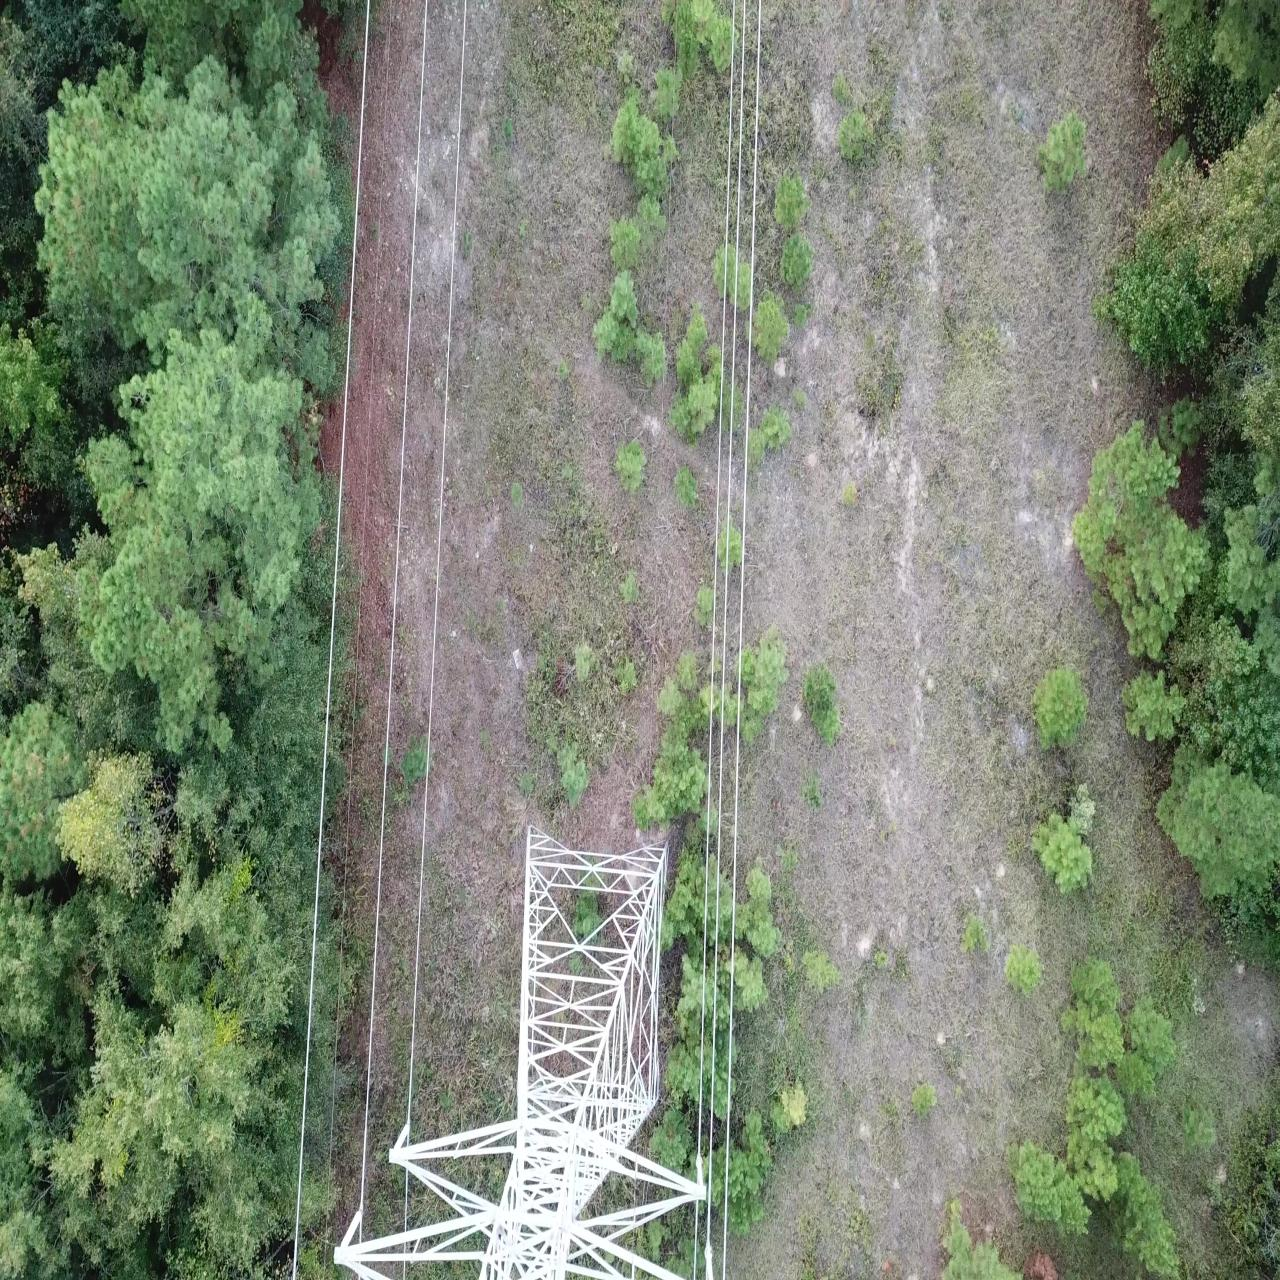cable: (293, 0, 369, 1279), (324, 0, 392, 1279), (361, 1, 428, 1207), (407, 0, 467, 1125), (723, 0, 761, 1279), (708, 0, 745, 1240), (699, 0, 735, 1153), (647, 0, 678, 846), (694, 1200, 699, 1279), (704, 1241, 713, 1279), (404, 1169, 408, 1231), (360, 1218, 362, 1242), (706, 1262, 708, 1279), (407, 1132, 409, 1145)
tower_lattice: (334, 824, 707, 1279)
